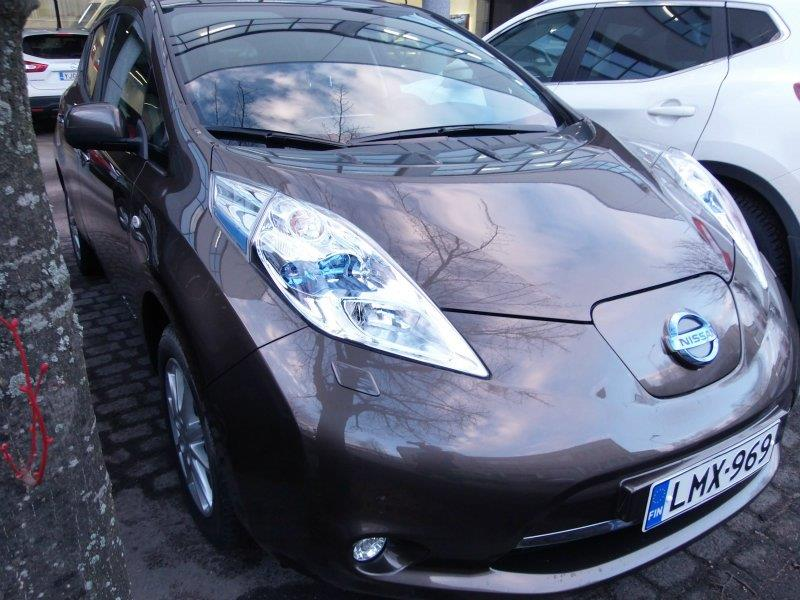license: (643, 409, 782, 537)
